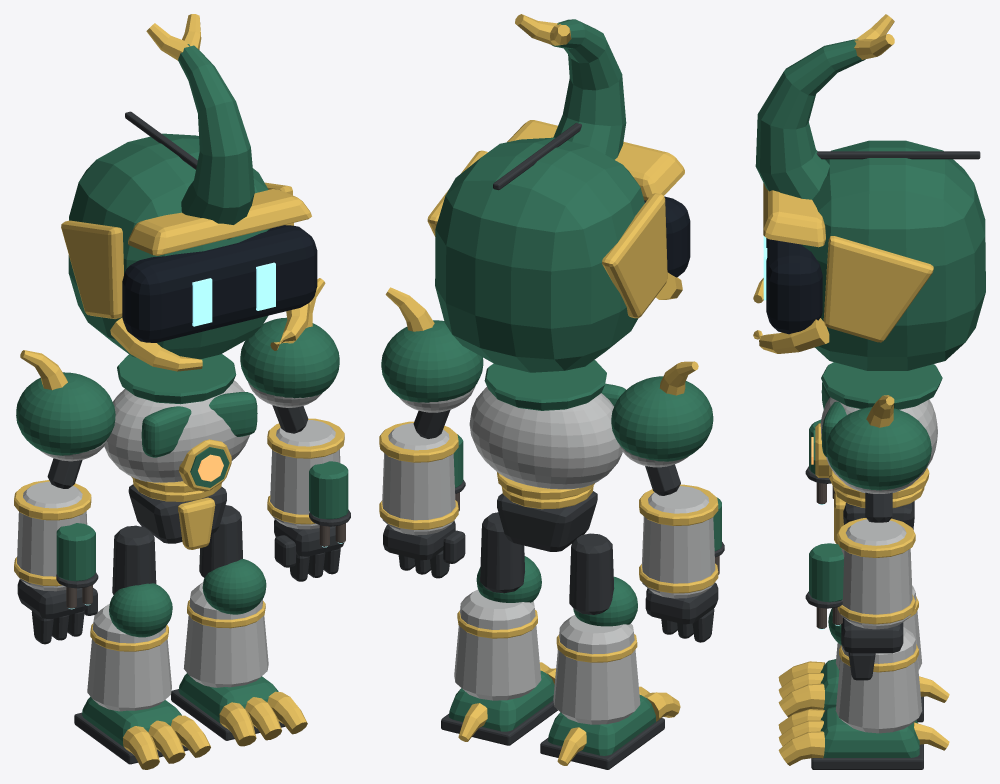
Rendered from besouro.glb.
The picture shows the model from 3 angles, left to right: view 1: azimuth 30°, elevation 25°; view 2: azimuth 150°, elevation 25°; view 3: azimuth 270°, elevation 25°; orthographic projection. The views are drawn at different scales.
Parts seen in each view (by area): view 1: visor.001, cabeca_p.001, chifre, ombro_p.003, tronco_p.001, ombro_p.002, bota.003, bota.002, testa.001, placa_lado.003, gola.001, antebraco.003 (+41 smaller); view 2: cabeca_p.001, tronco_p.001, bota.003, bota.002, chifre, ombro_p.003, ombro_p.002, antebraco.003, antebraco.002, placa_lado.003, gola.001, pelve.001 (+31 smaller); view 3: cabeca_p.001, chifre, placa_lado.002, ombro_p.002, bota.002, antebraco.002, visor.001, gola.001, pe.002, testa.001, cano_base.002, mao.002 (+27 smaller).
Part boxes in pixels (bbox=[...]): visor.001: bbox=[122, 225, 317, 342]; cabeca_p.001: bbox=[68, 133, 269, 359]; chifre: bbox=[178, 44, 254, 239]; ombro_p.003: bbox=[16, 372, 115, 455]; tronco_p.001: bbox=[104, 380, 249, 482]; ombro_p.002: bbox=[240, 317, 339, 398]; bota.003: bbox=[87, 604, 171, 711]; bota.002: bbox=[183, 582, 268, 687]; testa.001: bbox=[128, 189, 311, 255]; placa_lado.003: bbox=[61, 220, 123, 319]; gola.001: bbox=[117, 354, 236, 404]; antebraco.003: bbox=[16, 481, 87, 591]; cabeca_p.001: bbox=[435, 137, 644, 372]; tronco_p.001: bbox=[469, 387, 622, 489]; bota.003: bbox=[553, 615, 640, 724]; bota.002: bbox=[454, 589, 541, 700]; chifre: bbox=[552, 19, 626, 159]; ombro_p.003: bbox=[611, 376, 713, 461]; ombro_p.002: bbox=[381, 320, 483, 402]; antebraco.003: bbox=[642, 486, 715, 598]; antebraco.002: bbox=[382, 423, 455, 535]; placa_lado.003: bbox=[602, 193, 667, 318]; gola.001: bbox=[484, 360, 606, 410]; pelve.001: bbox=[497, 491, 597, 551]; cabeca_p.001: bbox=[802, 140, 985, 370]; chifre: bbox=[755, 39, 865, 199]; placa_lado.002: bbox=[823, 236, 933, 342]; ombro_p.002: bbox=[826, 407, 931, 490]; bota.002: bbox=[835, 627, 922, 733]; antebraco.002: bbox=[841, 519, 912, 629]; visor.001: bbox=[766, 238, 822, 334]; gola.001: bbox=[821, 362, 942, 409]; pe.002: bbox=[820, 706, 919, 757]; testa.001: bbox=[763, 183, 825, 247]; cano_base.002: bbox=[809, 543, 843, 602]; mao.002: bbox=[841, 617, 903, 653].
Size of the model in its own units: 0.664 by 1.38 by 0.4133.
